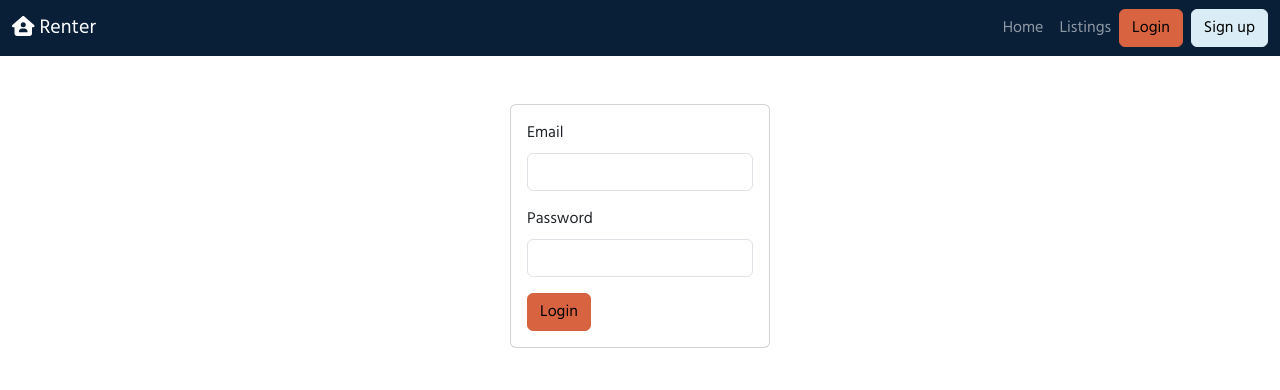
Test: login error is shown to user
The width and height of the screenshot is (1280, 390).
Step 1. Type "test@example.com" into the field with id "email" → (640, 172), box [527,153,753,191]
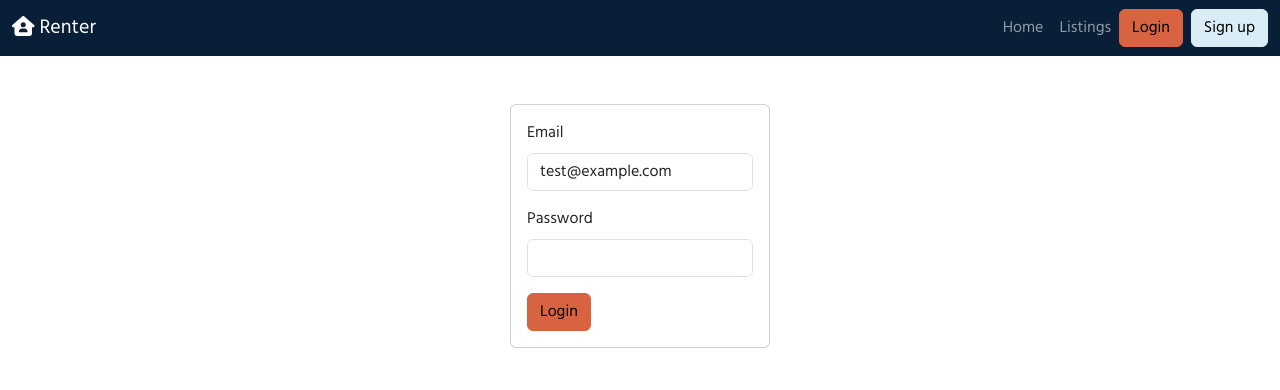
Step 2. Type "test" into the password field labelled "Password" → (640, 258), box [527,239,753,277]
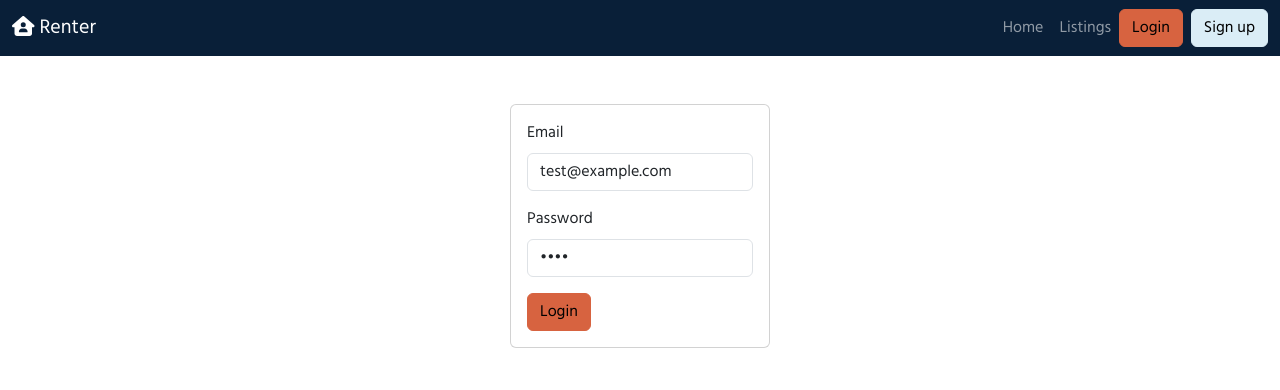
Step 3. Submit the form, box [511,105,769,347]
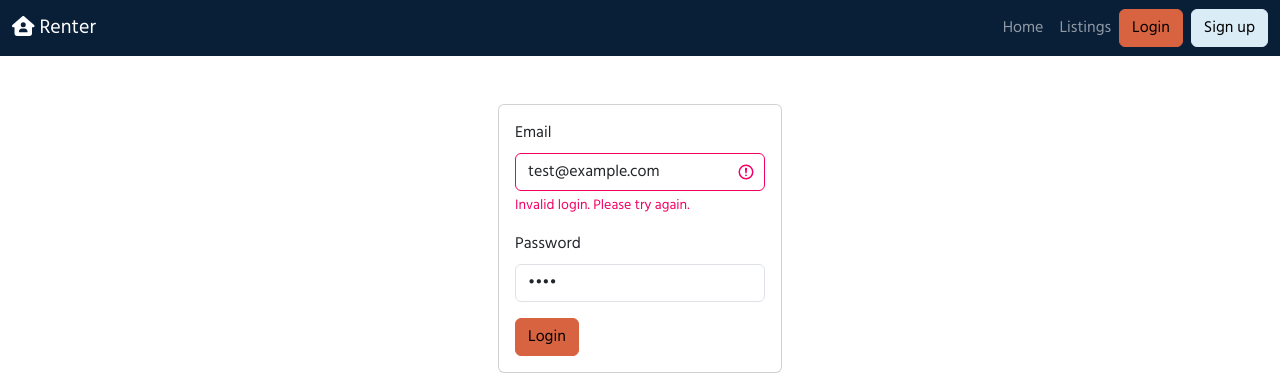
Expected: the text "Invalid login. Please try again." is shown, [515,194,690,217]
